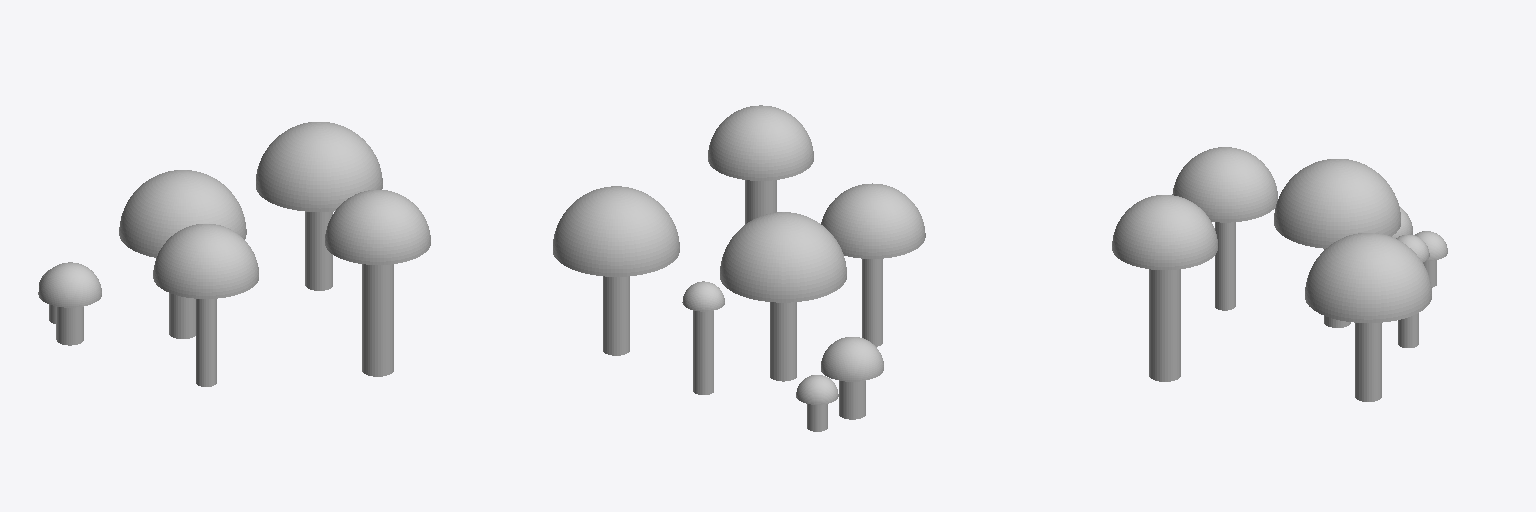
Rendered from treess.obj.
The picture shows the model from 3 angles: view 1: azimuth 30°, elevation 25°; view 2: azimuth 150°, elevation 25°; view 3: azimuth 270°, elevation 25°; orthographic projection.
Visible parts, largest first — view 1: default; view 2: default; view 3: default.
Boxes of the visible parts, <box> form: default: <box>38,122,430,386</box>; default: <box>553,105,925,431</box>; default: <box>1112,147,1447,401</box>.
Size of the model in its own units: 177 by 91.19 by 158.